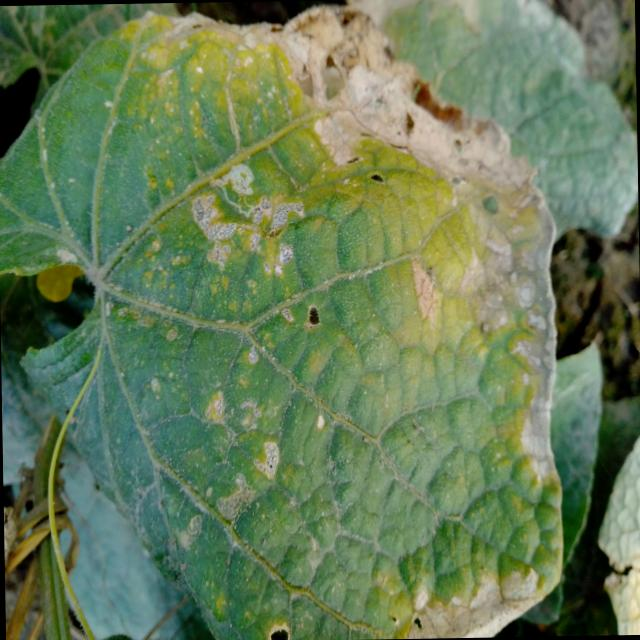cucumber_gummy: (0, 0, 571, 640), (342, 0, 638, 254)
